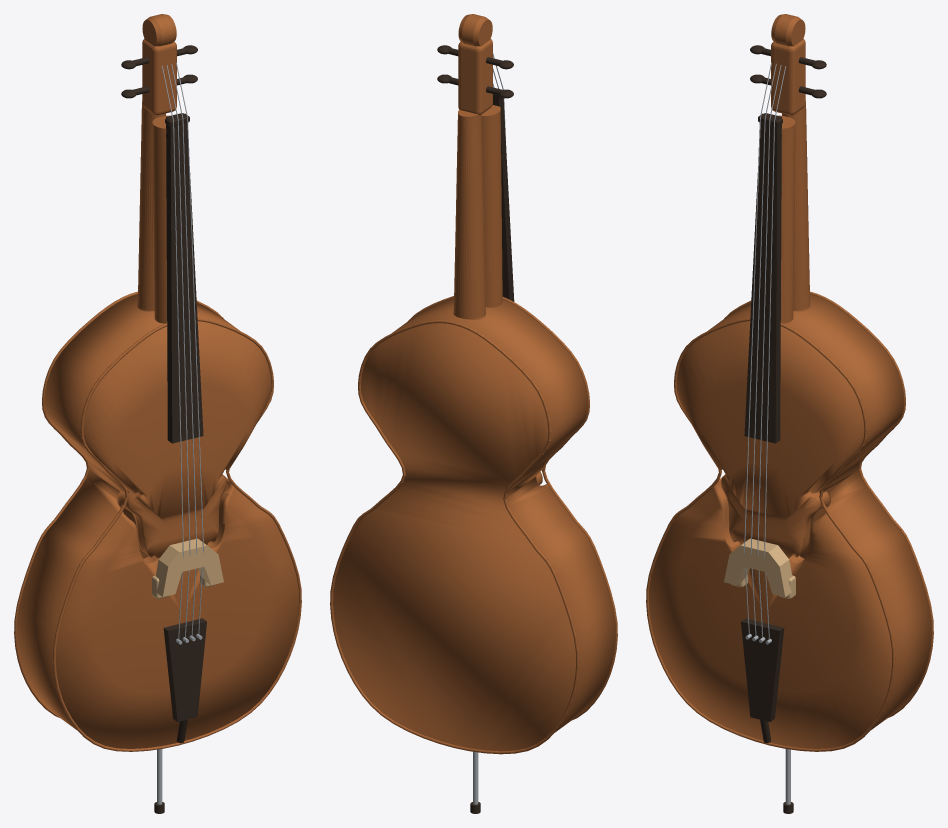
File: A-NEW-20261026-CELLO-001_LOD0_R7.glb
3 views of the same model, side by side, from view 1: azimuth 30°, elevation 25°; view 2: azimuth 150°, elevation 25°; view 3: azimuth 330°, elevation 25° (orthographic).
Parts seen in each view (by area): view 1: deep hollow cello body, unfretted fingerboard, tapered tailpiece, neck, neck forward support, carved bridge, pegbox, string 1, curled scroll, string 4, string 2, string 3; view 2: deep hollow cello body, neck, neck forward support, pegbox, unfretted fingerboard, curled scroll; view 3: deep hollow cello body, unfretted fingerboard, tapered tailpiece, neck, neck forward support, carved bridge, pegbox, string 4, curled scroll, string 1, string 3, string 2.
Part boxes in pixels (<box>): deep hollow cello body: <box>16,294,298,748</box>; unfretted fingerboard: <box>166,113,203,443</box>; tapered tailpiece: <box>163,618,206,721</box>; neck: <box>137,101,165,311</box>; neck forward support: <box>152,115,169,323</box>; carved bridge: <box>155,538,223,596</box>; pegbox: <box>142,39,176,115</box>; string 1: <box>161,66,183,639</box>; curled scroll: <box>142,14,176,46</box>; string 4: <box>176,62,203,634</box>; string 2: <box>166,65,190,637</box>; string 3: <box>171,63,197,636</box>; deep hollow cello body: <box>333,298,615,751</box>; neck: <box>453,109,485,319</box>; neck forward support: <box>481,105,502,307</box>; pegbox: <box>458,39,492,115</box>; unfretted fingerboard: <box>492,94,514,301</box>; curled scroll: <box>458,14,492,46</box>; deep hollow cello body: <box>649,294,931,748</box>; unfretted fingerboard: <box>744,113,781,443</box>; tapered tailpiece: <box>741,618,784,721</box>; neck: <box>782,101,810,311</box>; neck forward support: <box>778,115,795,323</box>; carved bridge: <box>724,538,792,596</box>; pegbox: <box>771,39,805,115</box>; string 4: <box>764,66,786,639</box>; curled scroll: <box>771,14,805,46</box>; string 1: <box>744,62,771,634</box>; string 3: <box>757,65,781,637</box>; string 2: <box>750,63,776,636</box>.
Size of the model in its own units: 0.4463 by 1.36 by 0.1733.
